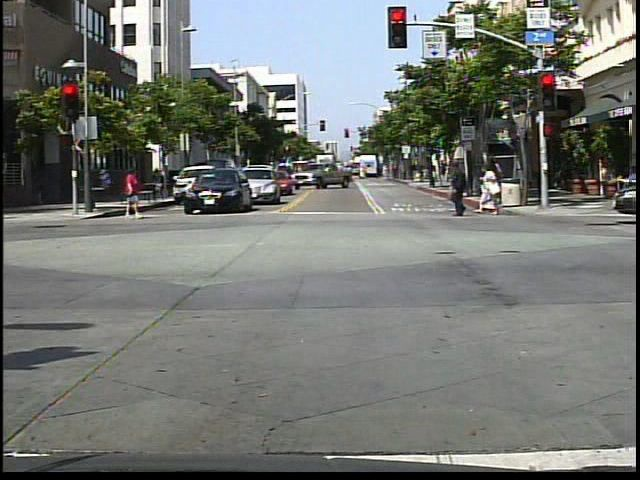person: (450, 159, 477, 222), (478, 158, 503, 222), (120, 165, 142, 222), (619, 155, 640, 199)
